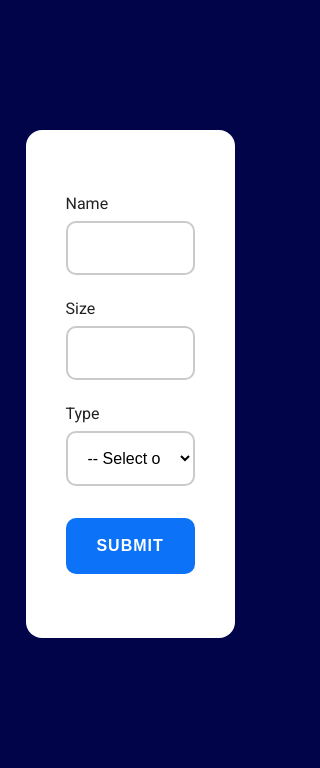
Test case: When the user submits the form and the server returns an invalid › The form page must display the error message “The form is invalid are required””
Click the button "Submit" at (130, 546), box [66, 518, 195, 574]
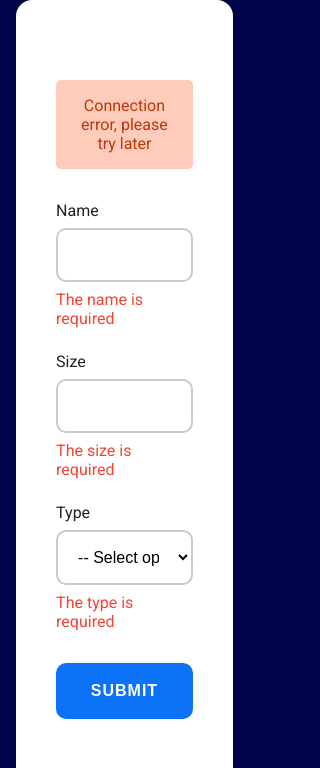
Result: the text "Connection error, please try later" is shown at [56, 80, 193, 169]
